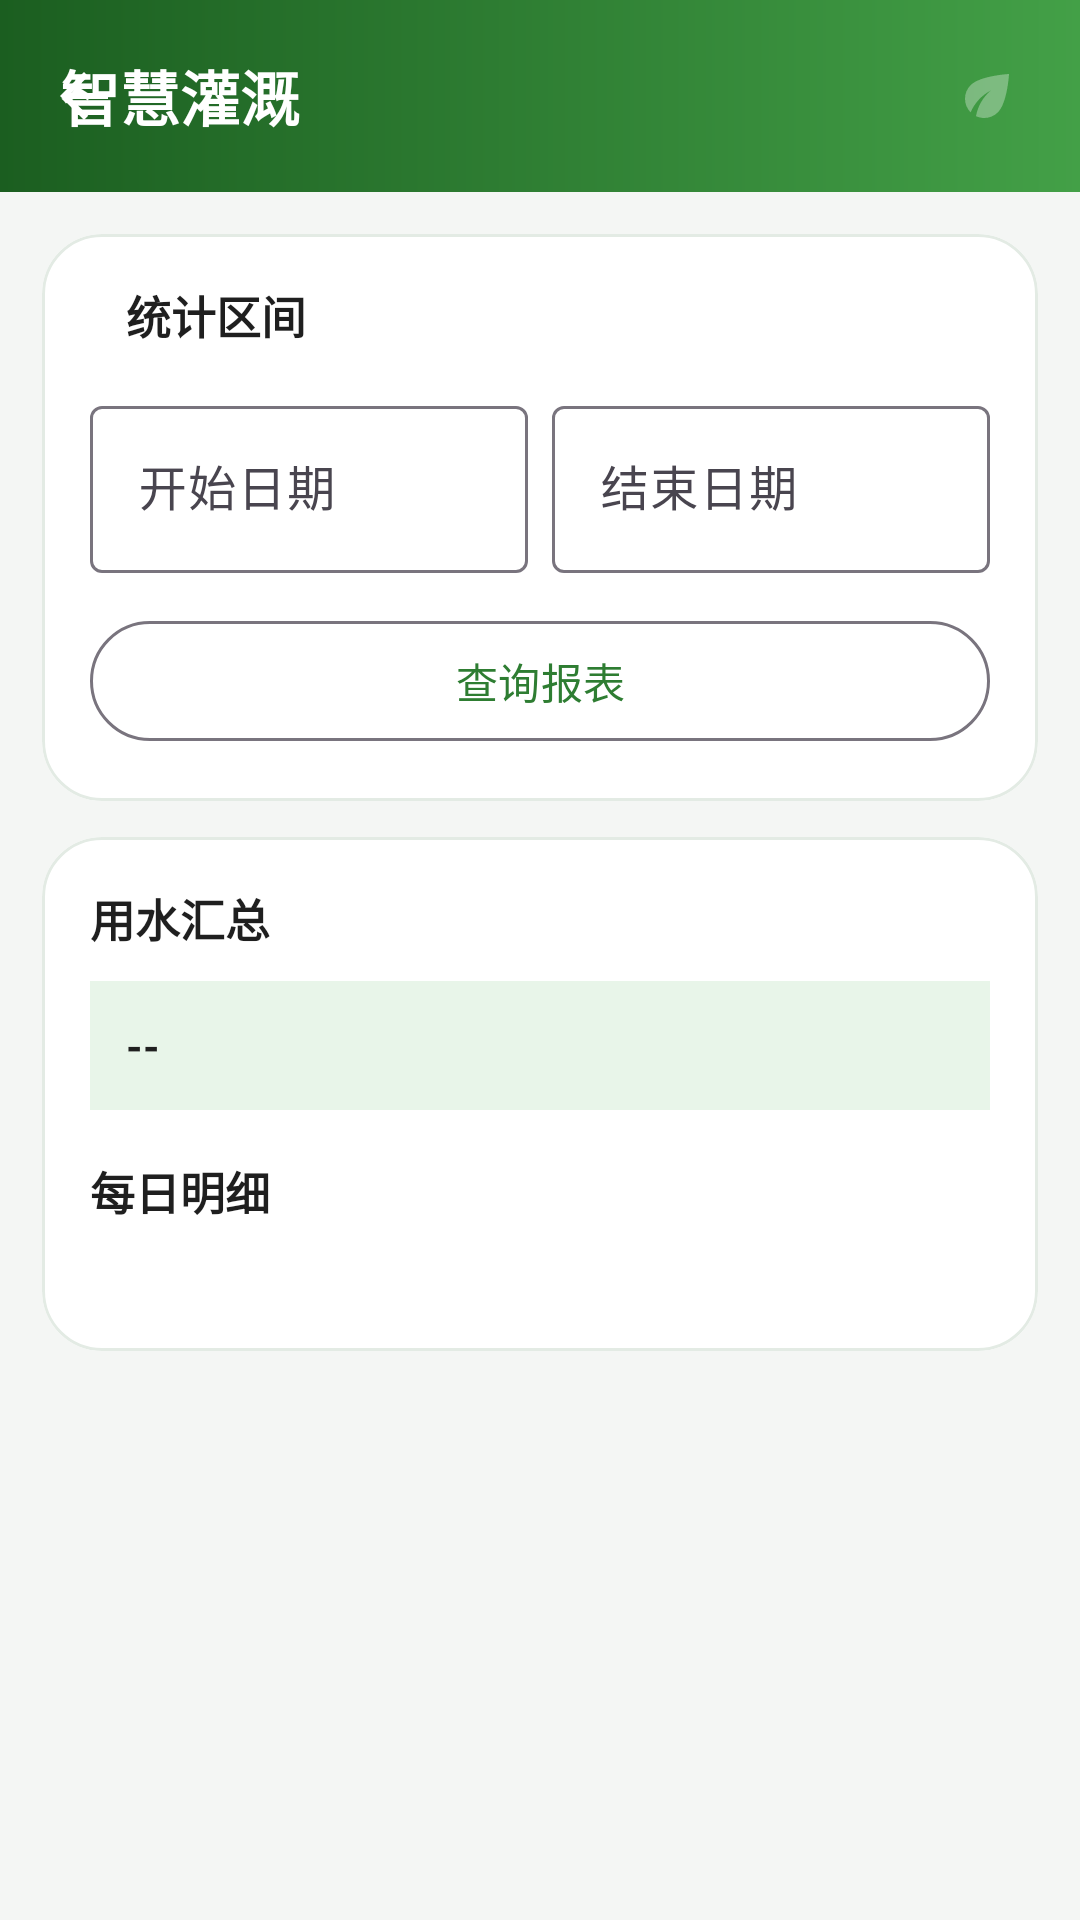

Where icons sit on this 1080 × 1920 app screen, as rect(x1, y1, x2, y2):
leaf: rect(965, 74, 1009, 118)
